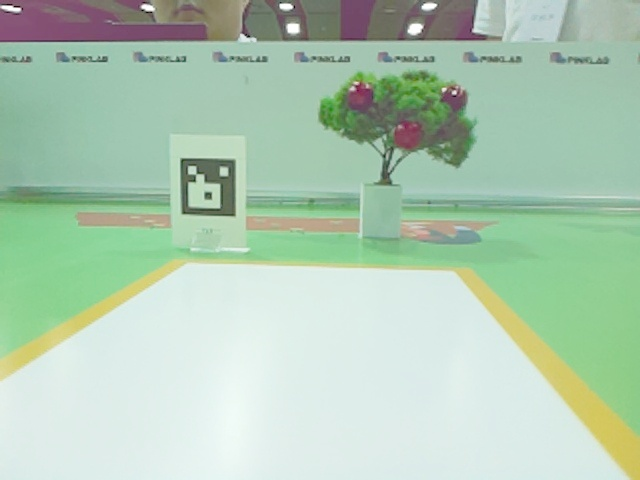apple: (389, 119, 429, 153), (346, 79, 377, 118), (434, 82, 473, 113)
